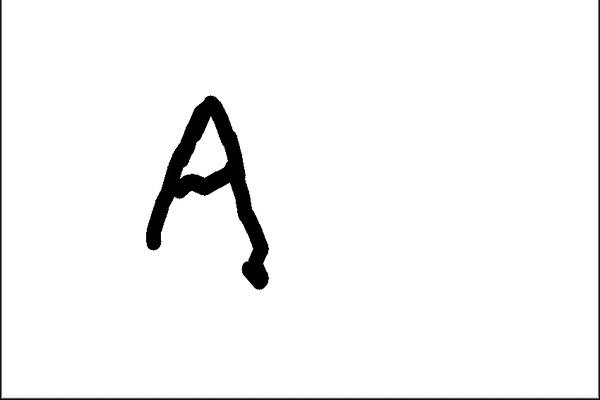A: (132, 91, 280, 265)
